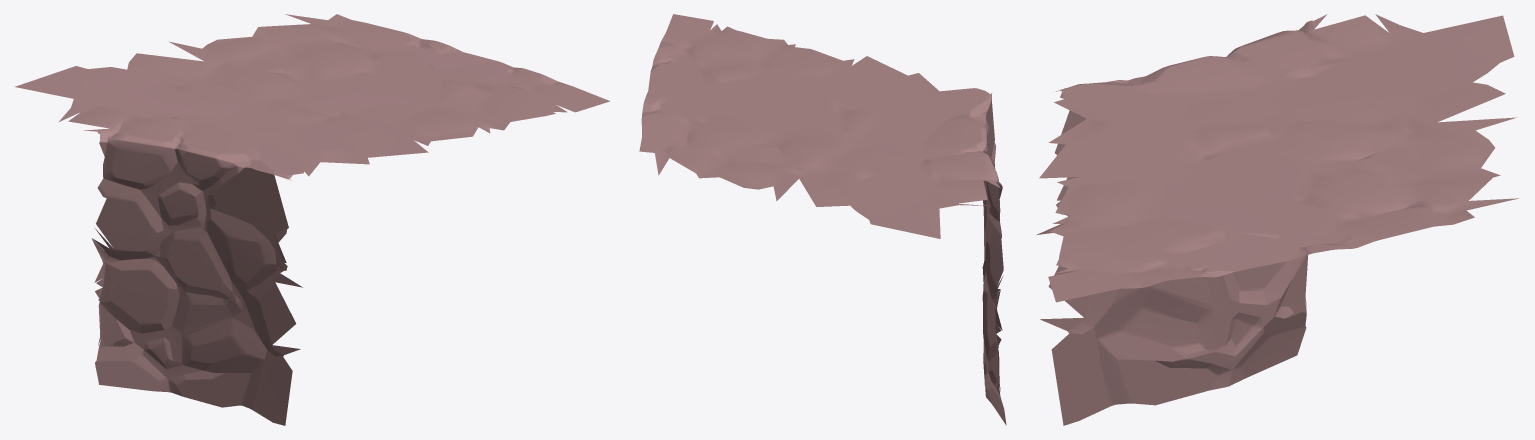
Rendered from pleateauArea1.fbx_PolyShape__46__014LODs.fbx.
3 views of the same model, side by side, from view 1: azimuth 30°, elevation 25°; view 2: azimuth 150°, elevation 25°; view 3: azimuth 270°, elevation 25° (orthographic). The views are drawn at different scales.
Parts seen in each view (by area): view 1: PolyShape (46).014_LOD0; view 2: PolyShape (46).014_LOD0; view 3: PolyShape (46).014_LOD0.
Boxes of the visible parts, x1=… form: PolyShape (46).014_LOD0: x1=15, y1=14, x2=609, y2=425; PolyShape (46).014_LOD0: x1=639, y1=14, x2=1006, y2=425; PolyShape (46).014_LOD0: x1=1036, y1=14, x2=1518, y2=425.
Size of what is drawn, in the model's own units: 7603 by 4205 by 5387.
